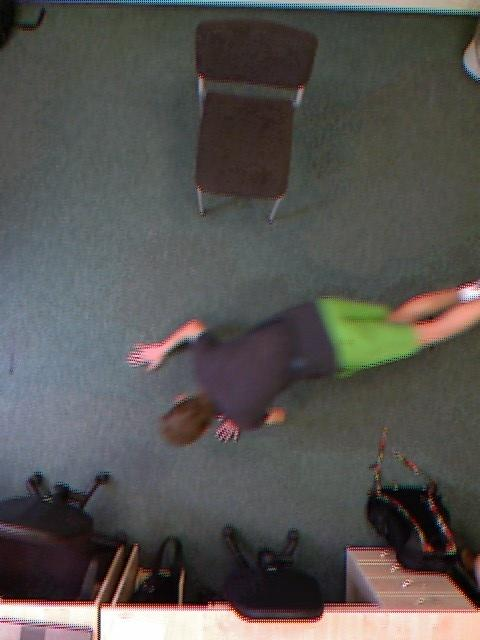fall: (238, 131, 370, 600)
